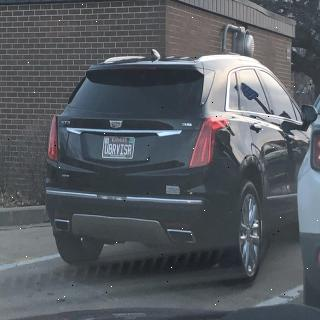license: (102, 137, 136, 160)
